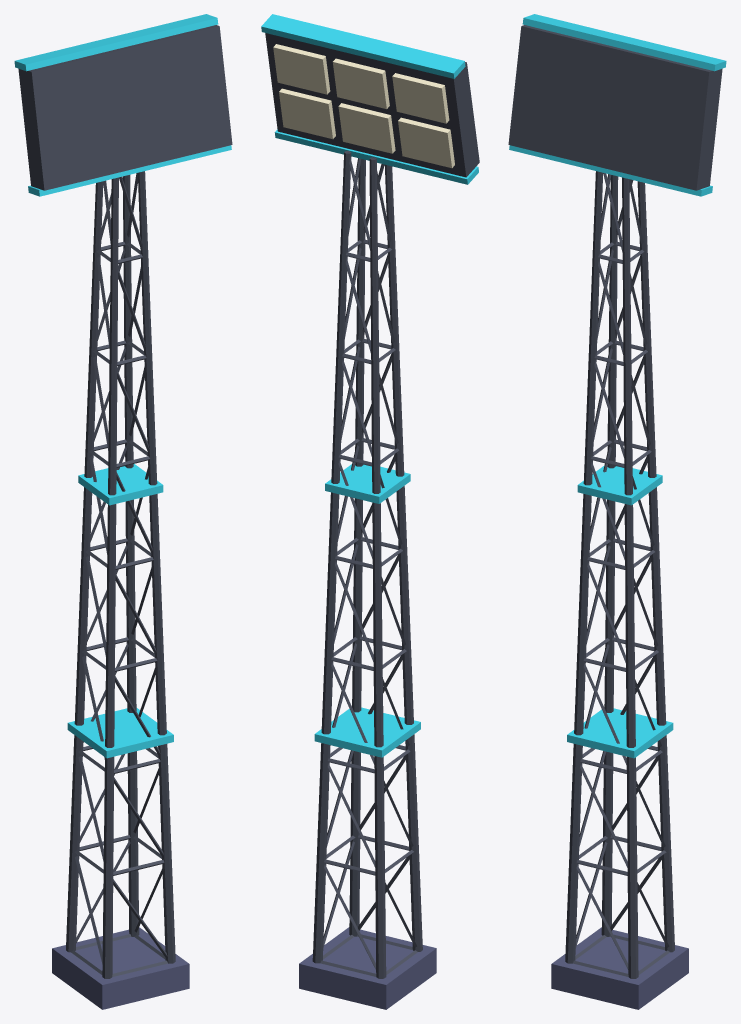
File: Light_Tower.obj
3 renders of one model, left to right at view 1: azimuth 30°, elevation 25°; view 2: azimuth 150°, elevation 25°; view 3: azimuth 330°, elevation 25°, orthographic.
Parts seen in each view (by area): view 1: Metal, Neon, Concrete; view 2: Metal, Lamp, Neon, Concrete; view 3: Metal, Neon, Concrete.
Boxes of the visible parts, x1,y1,x2,y2 form: Metal: [18, 25, 232, 978]; Neon: [14, 14, 231, 758]; Concrete: [52, 927, 189, 1009]; Metal: [265, 33, 479, 978]; Lamp: [273, 44, 454, 168]; Neon: [261, 14, 478, 757]; Concrete: [299, 927, 436, 1009]; Metal: [508, 25, 722, 978]; Neon: [509, 14, 726, 758]; Concrete: [551, 927, 688, 1009].
Bounding box in the file's own units: 9.7 × 45.4 × 4.4.
